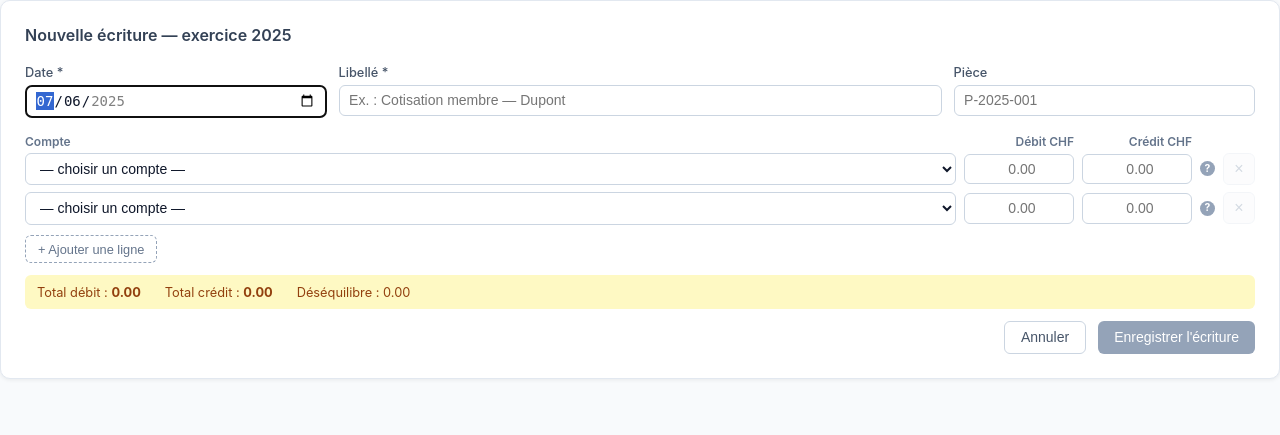
Test: EntryForm — gestion des lignes › supprime une ligne (si plus de 2)
Click the button "+ Ajouter une ligne": click(91, 249) top-left (25, 235), bottom-right (157, 263)
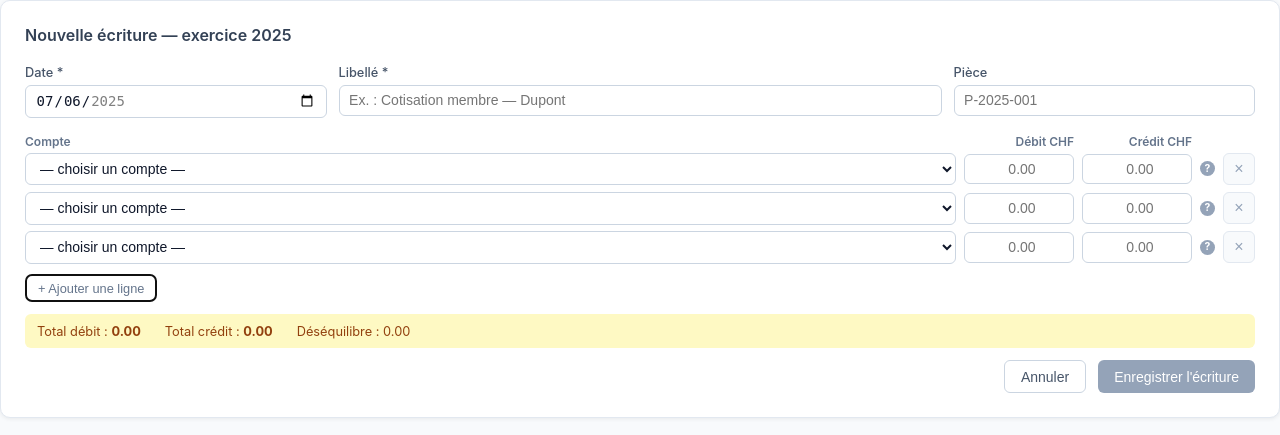
Result: the number of dropdowns is 3 at top-left (25, 153), bottom-right (956, 185); top-left (25, 192), bottom-right (956, 225); top-left (25, 231), bottom-right (956, 264)
Click the button named "Supprimer ligne 3": click(1239, 247) top-left (1223, 231), bottom-right (1255, 263)
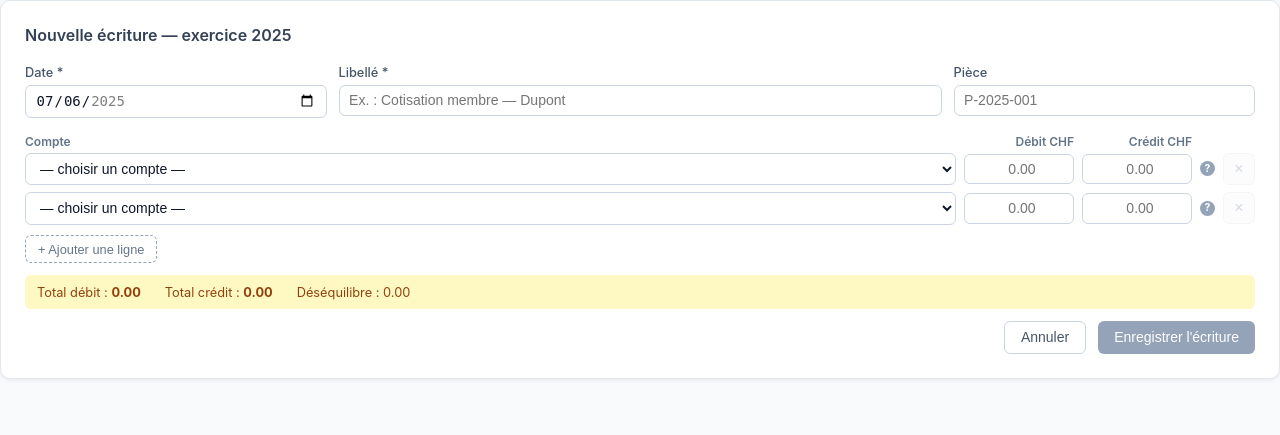
Result: the number of dropdowns is 2 at top-left (25, 153), bottom-right (956, 185); top-left (25, 192), bottom-right (956, 225)
